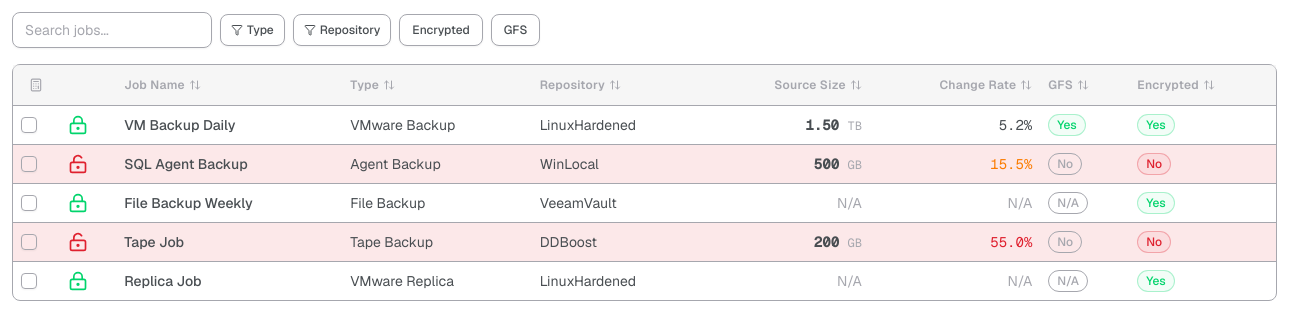
it: JobTable › filters rows by GFS toggle
Step 1. Click the button with aria-label "filter by gfs status" → (516, 30), box [491,14,540,46]
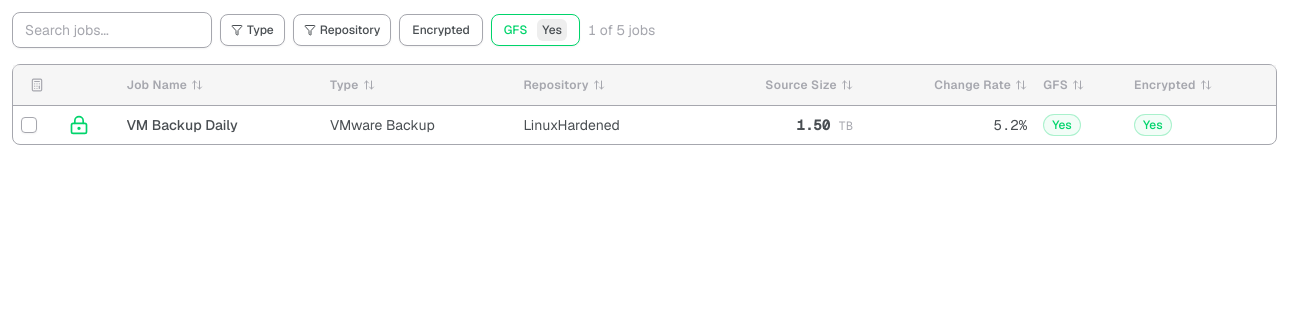
Check: the text "VM Backup Daily" is shown, box [127,116,238,134]
Check: the button "SQL Agent Backup" is gone
